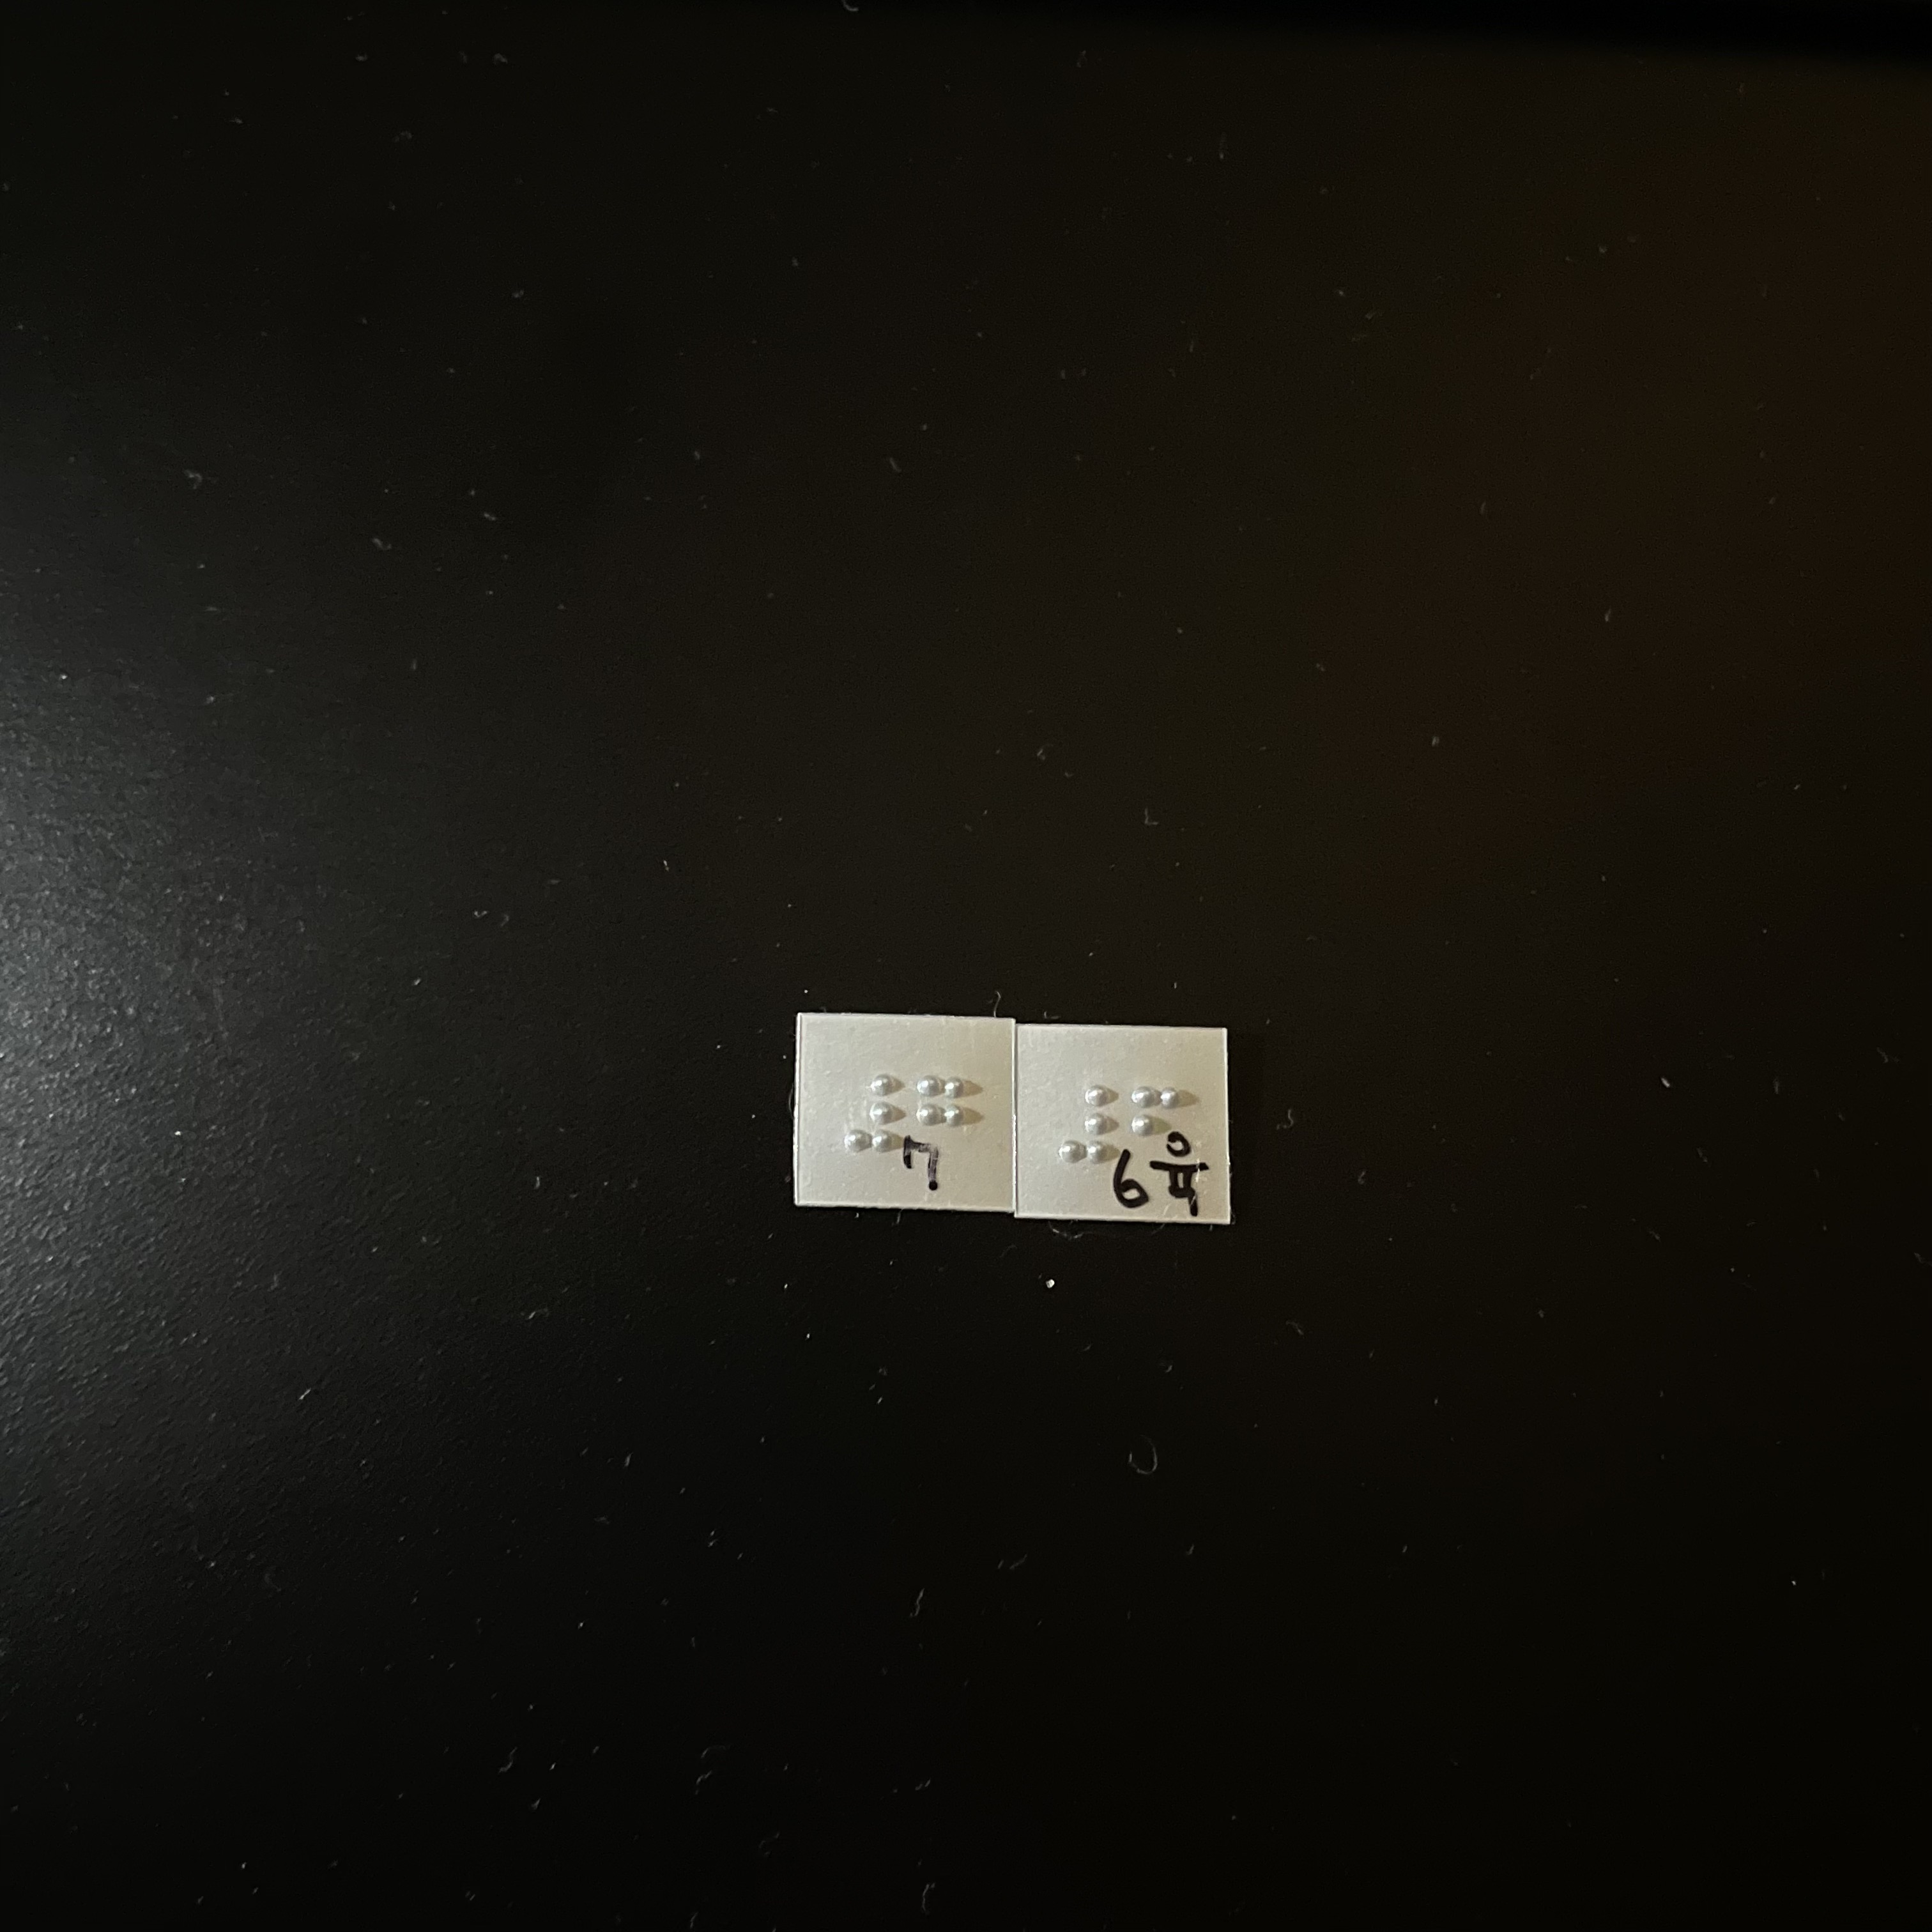#: (1054, 1077, 1124, 1174), (838, 1071, 906, 1158)
f: (1124, 1075, 1190, 1181)
g: (910, 1071, 976, 1161)
